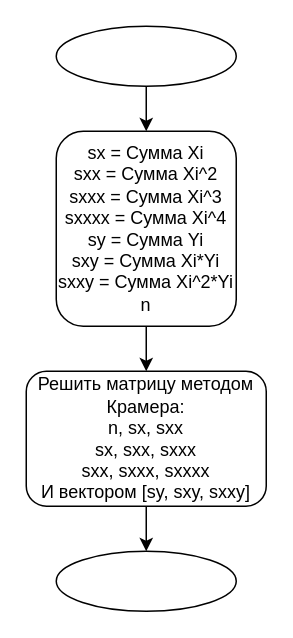
The diagram is 293 pixels wide and 638 high, and some of its shapes have lost their labels. The centre of each missing label's shape, as x and y in pixels:
"Конец" goes at pixel 145 580.
"Начало" goes at pixel 145 55.
